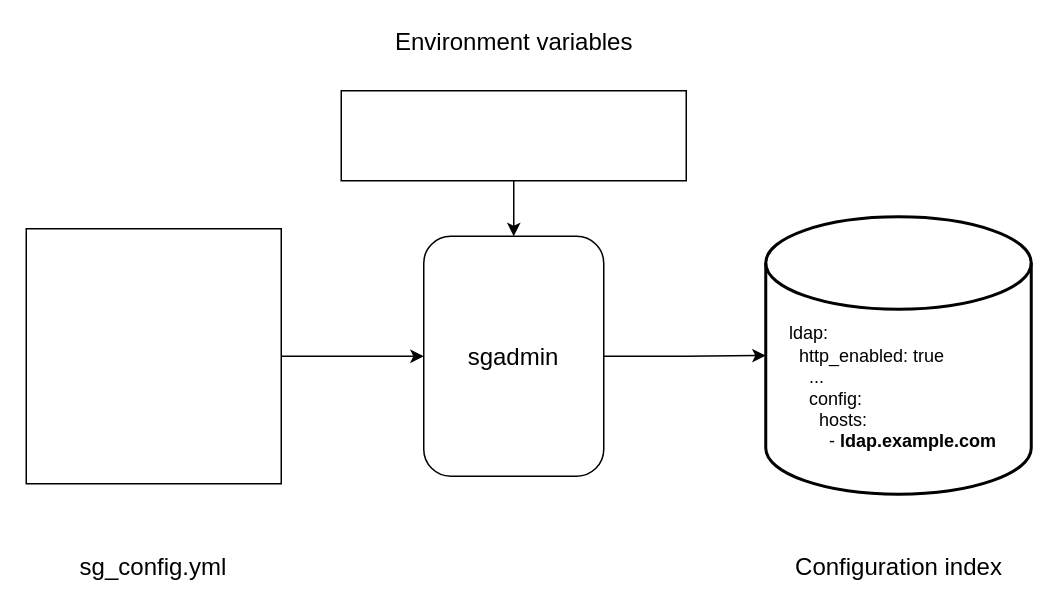
The diagram is 1059 pixels wide and 606 high, and some of its shapes have lost their labels. Here are the shapes that lost their labels. From the top down, the centre of each, then its label:
At point (513, 135): "export LDAP_HOST=ldap.example.com".
At point (153, 355): "ldap: http_enabled: true ... config: hosts: - ${env.LDAP_HOST}".
